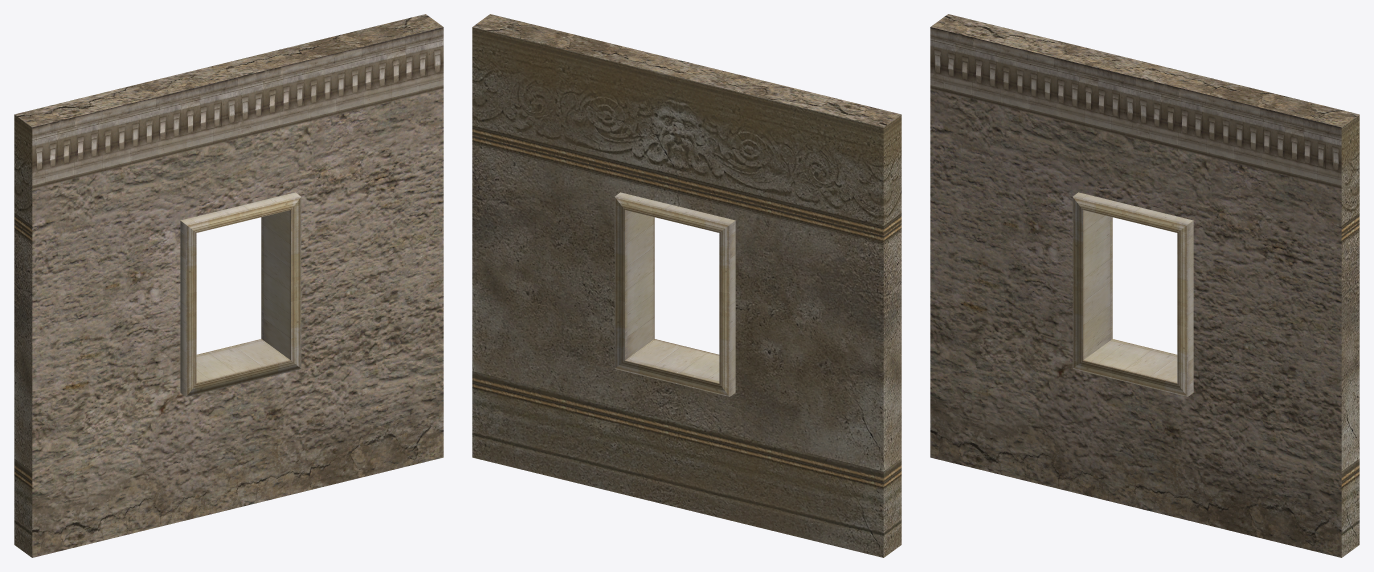
File: SH3D_Sparta_WallWindow.obj
3 renders of one model, left to right at view 1: azimuth 30°, elevation 25°; view 2: azimuth 150°, elevation 25°; view 3: azimuth 330°, elevation 25°, orthographic.
Parts seen in each view (by area): view 1: SH3D_ExtWall0, SH3D_Trim0, SH3D_IntWall0; view 2: SH3D_IntWall0, SH3D_Trim0, SH3D_ExtWall0; view 3: SH3D_ExtWall0, SH3D_Trim0, SH3D_IntWall0.
Part boxes in pixels (x1=…): SH3D_ExtWall0: x1=15, y1=14, x2=443, y2=557; SH3D_Trim0: x1=180, y1=192, x2=301, y2=396; SH3D_IntWall0: x1=14, y1=114, x2=32, y2=557; SH3D_IntWall0: x1=472, y1=27, x2=901, y2=557; SH3D_Trim0: x1=614, y1=192, x2=735, y2=396; SH3D_ExtWall0: x1=473, y1=14, x2=900, y2=127; SH3D_ExtWall0: x1=930, y1=14, x2=1358, y2=557; SH3D_Trim0: x1=1072, y1=192, x2=1193, y2=396; SH3D_IntWall0: x1=1341, y1=114, x2=1359, y2=557.
Bounding box in the file's own units: 4 × 4 × 0.5.
